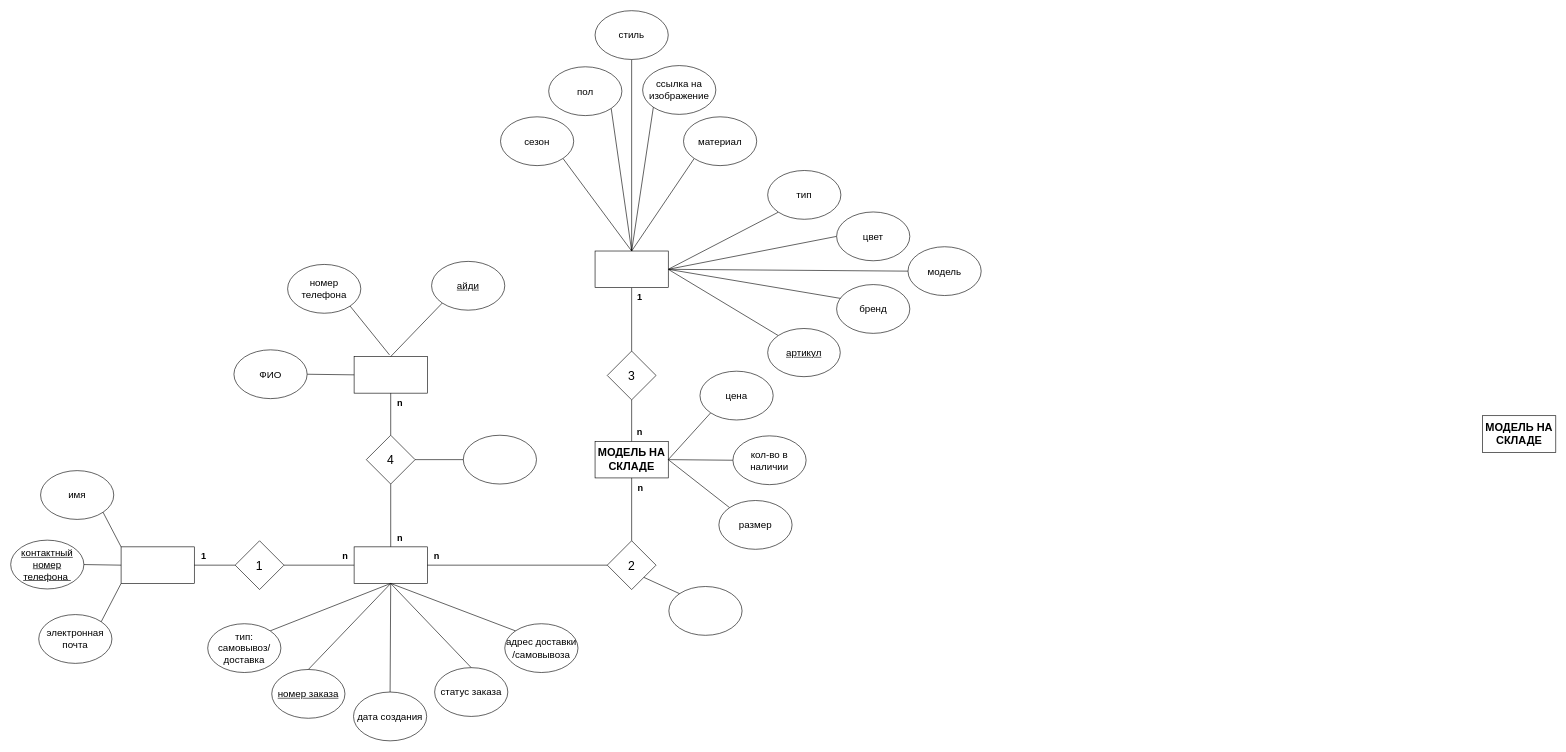
Some shapes in this 1566 by 752 pixel diagram are drawn without their labels. Here are the shapes that lost their labels. From the top down, the centre of each, then its label:
the point at 631,269: МОДЕЛЬ ОБУВИ
the point at 390,374: СОТРУДНИК
the point at 499,459: роль
the point at 157,564: КЛИЕНТ
the point at 390,564: ЗАКАЗ
the point at 705,610: количество
